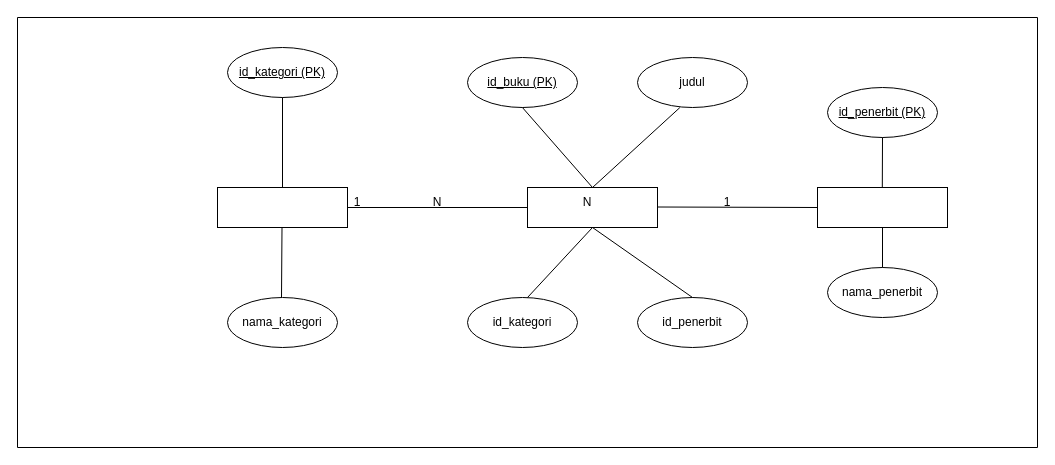
Some shapes in this 1055 by 465 pixel diagram are drawn without their labels. The box of each missing label's shape, as (x1, y1, x2, y2) in pixels:
Buku: (526, 186, 658, 228)
Kategori Buku: (216, 186, 348, 228)
Penerbit: (816, 186, 948, 228)
